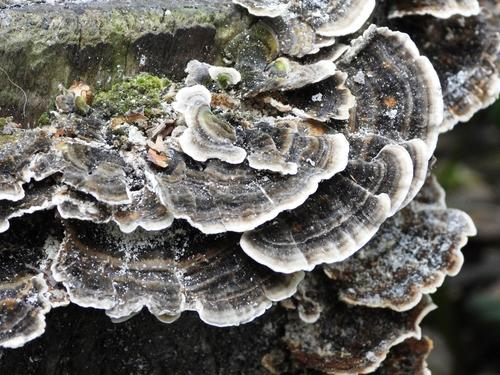poisonous_mushroom: (0, 0, 500, 375), (171, 83, 247, 165)
